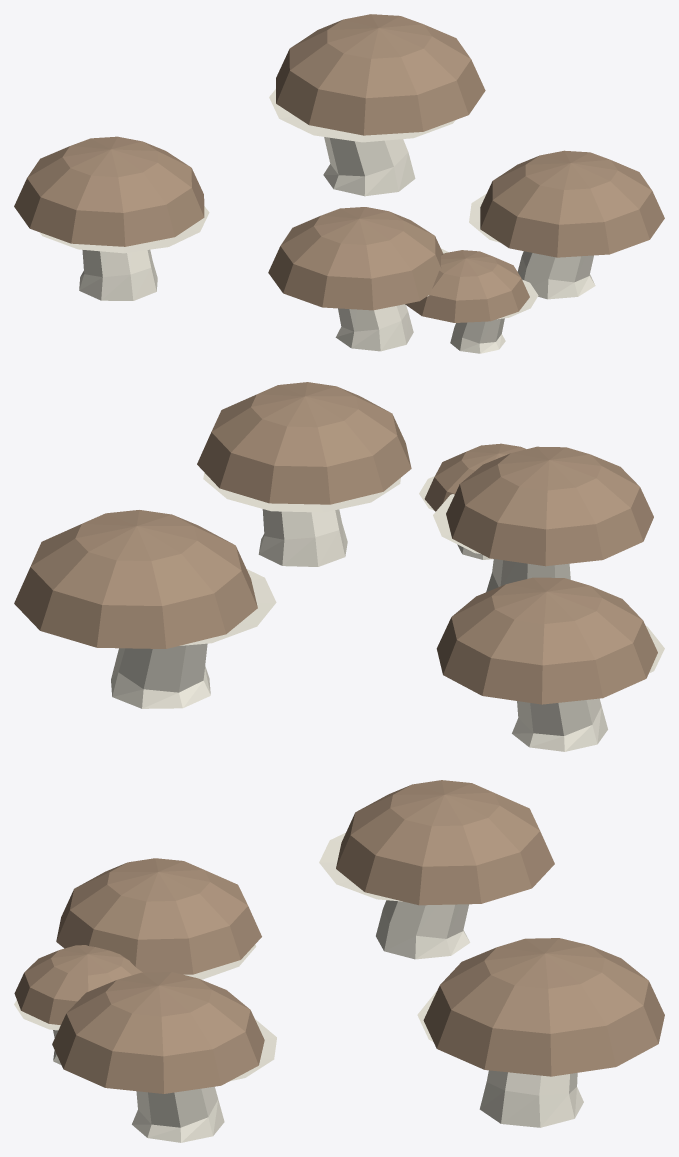
The model's file is temperate-forest-ecology-penny-bun-group-79b58140__3864.glb.
The picture shows the model from 3 angles, top to bottom: view 1: azimuth 30°, elevation 25°; view 2: azimuth 150°, elevation 25°; view 3: azimuth 270°, elevation 25°; orthographic projection. The views are drawn at different scales.
Parts seen in each view (by area): view 1: penny-bun-group; view 2: penny-bun-group; view 3: penny-bun-group.
Part boxes in pixels (bbox=[...]): penny-bun-group: bbox=[14, 14, 664, 353]; penny-bun-group: bbox=[14, 382, 664, 751]; penny-bun-group: bbox=[14, 780, 664, 1142].
Bounding box in the file's own units: 0.5295 × 0.1424 × 0.5228.
